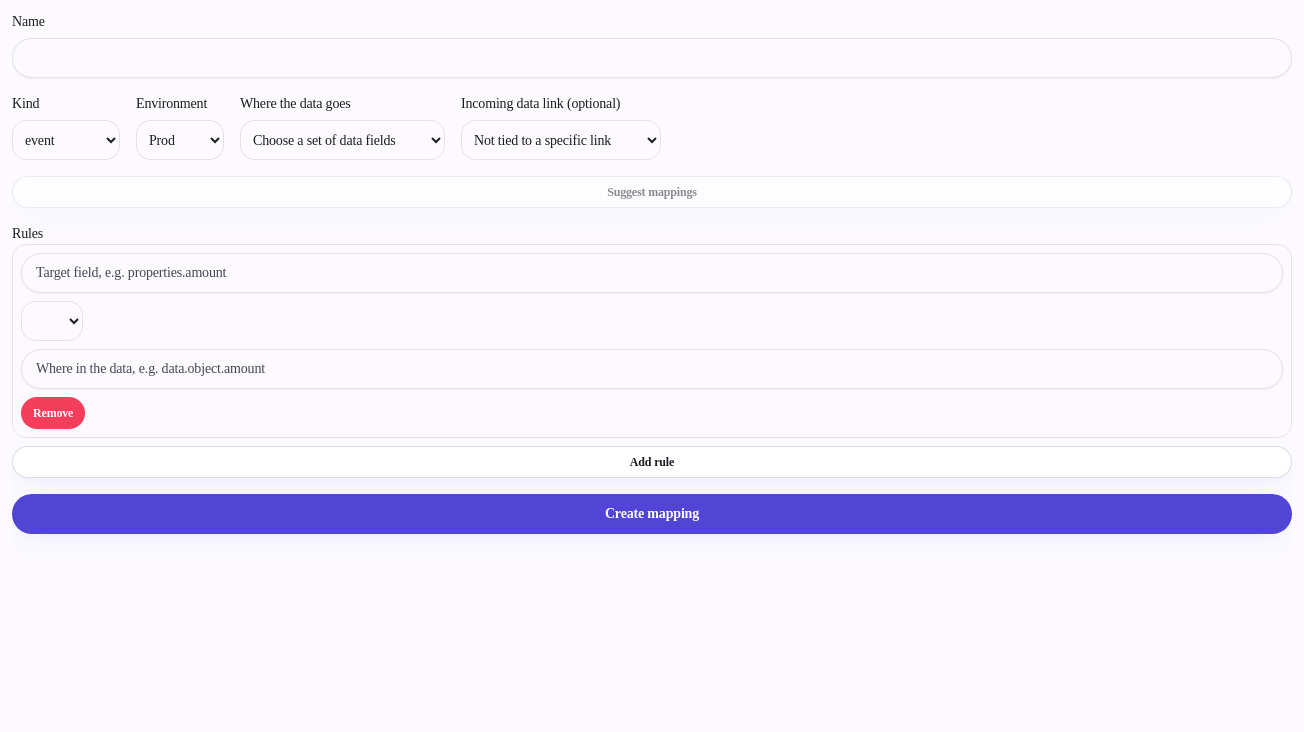
Test case: CreateFieldMappingForm › shows a specific error when the target schema is not registered, a generic one otherwise
The image size is (1304, 732).
Type "X" into the field labelled "Name". click: (652, 58)
box: [12, 38, 1292, 78]
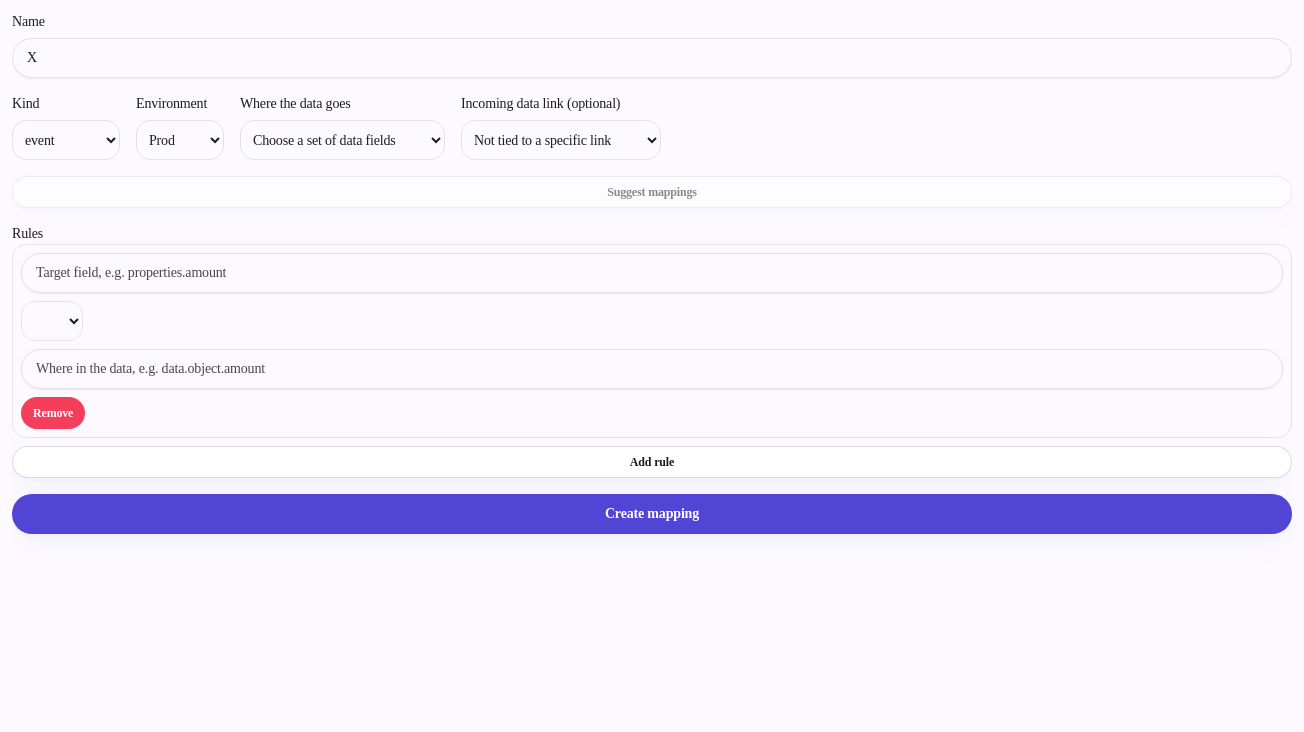
Select "order_completed" in the dropdown labelled "Where the data goes". click: (342, 140)
box: [240, 120, 445, 160]
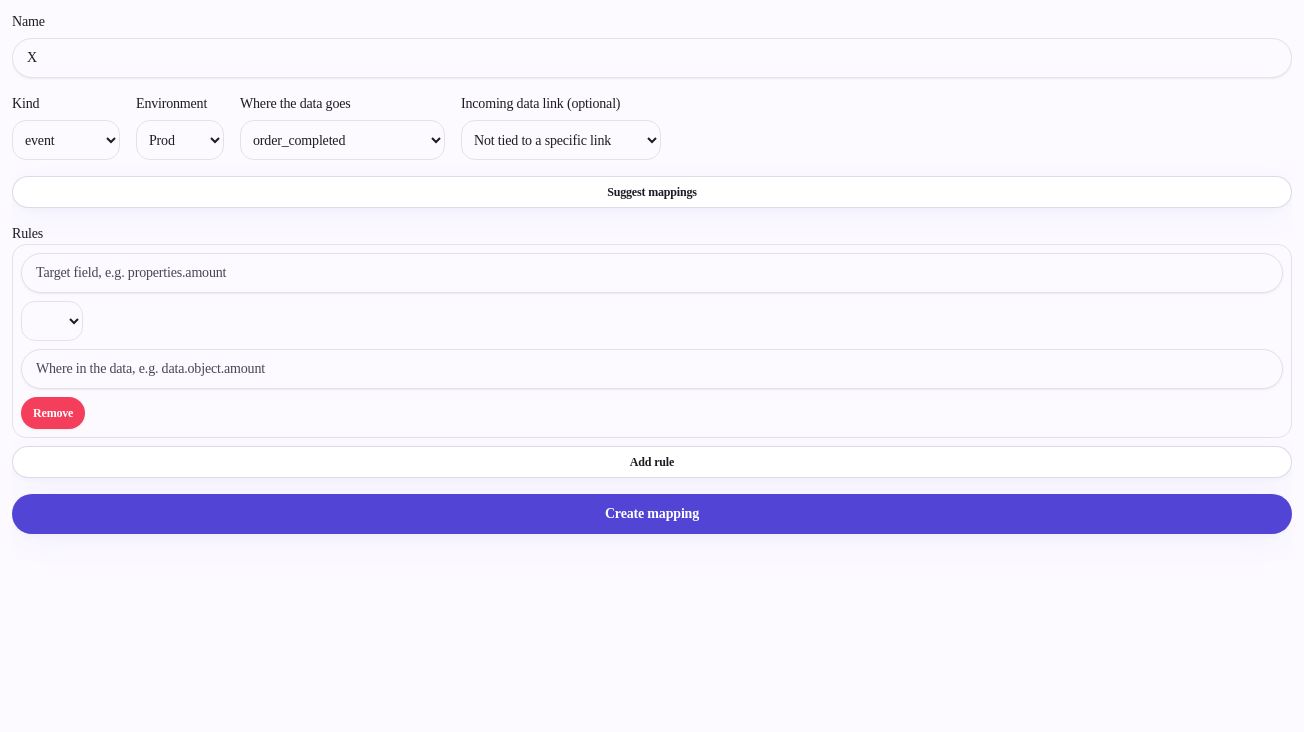
Click the button "Create mapping". click: (652, 514)
box: [12, 494, 1292, 534]
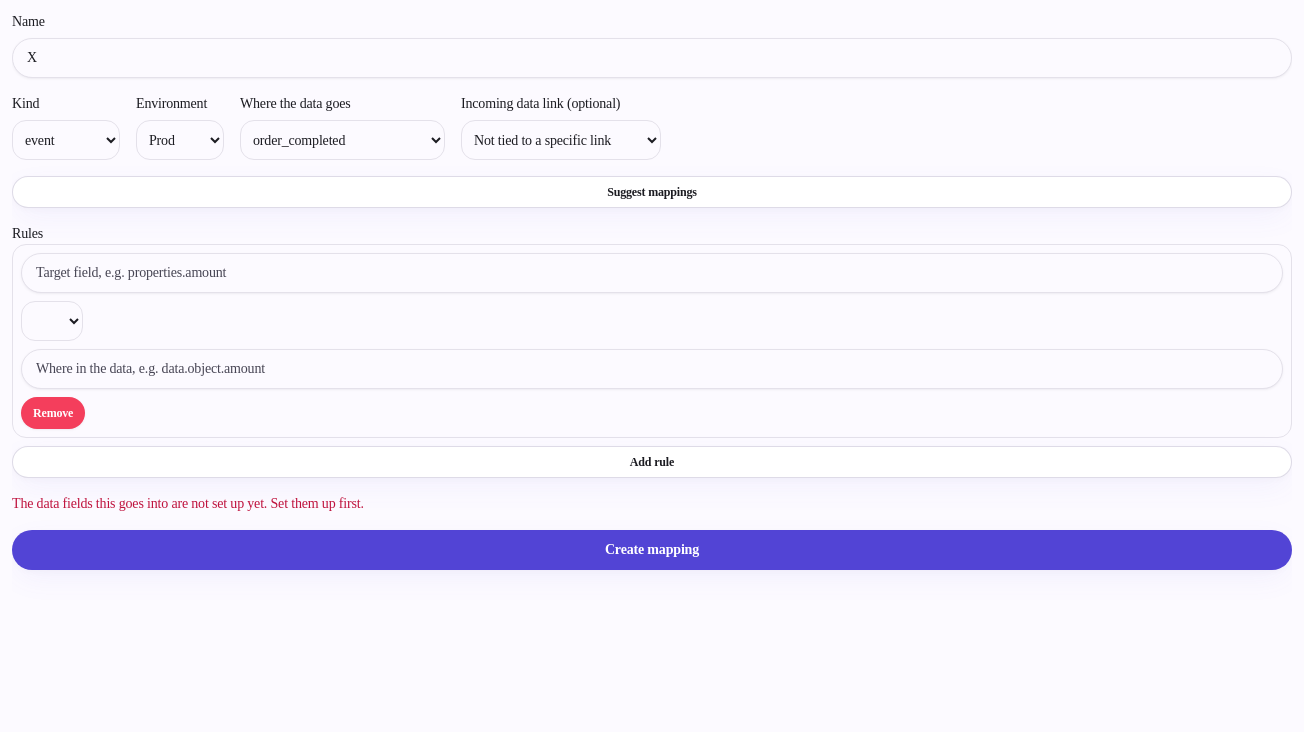
Result: the message reads "The data fields this goes into are not set up yet. Set them up first." at [12, 496, 364, 511]
